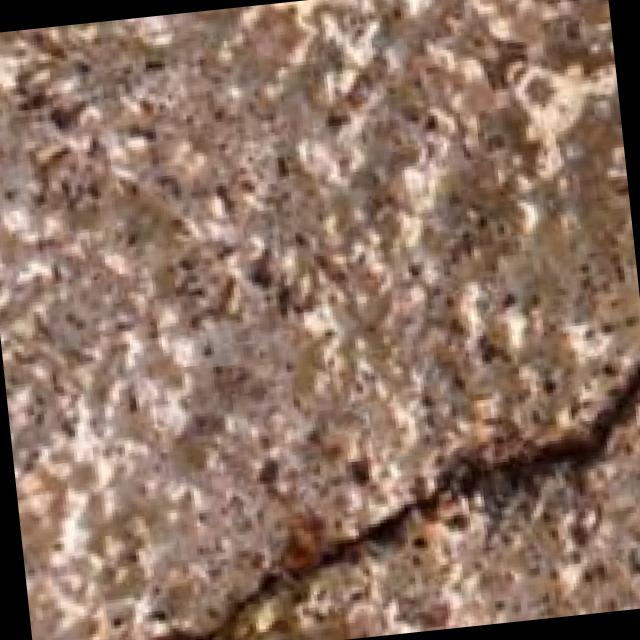crack: (93, 308, 640, 640)
